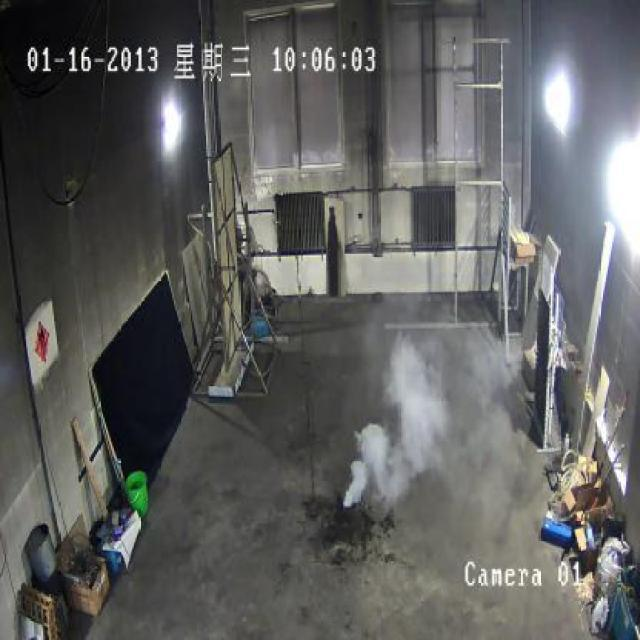fire: (344, 292, 518, 518)
